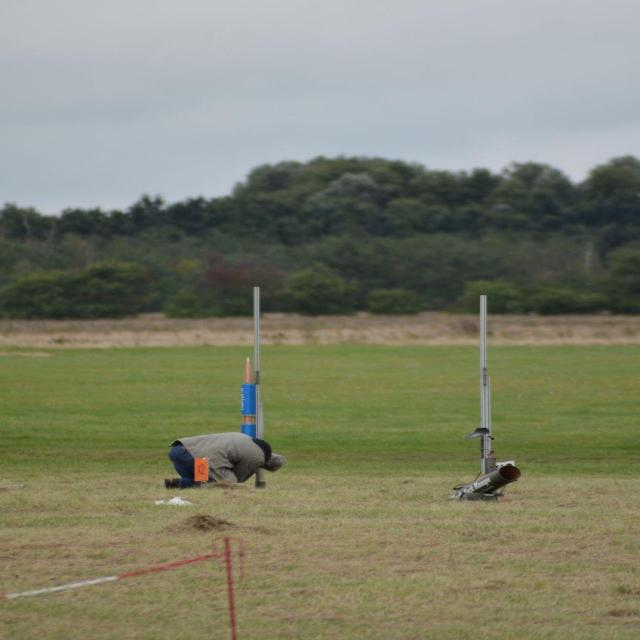Rocket: (240, 356, 256, 452)
